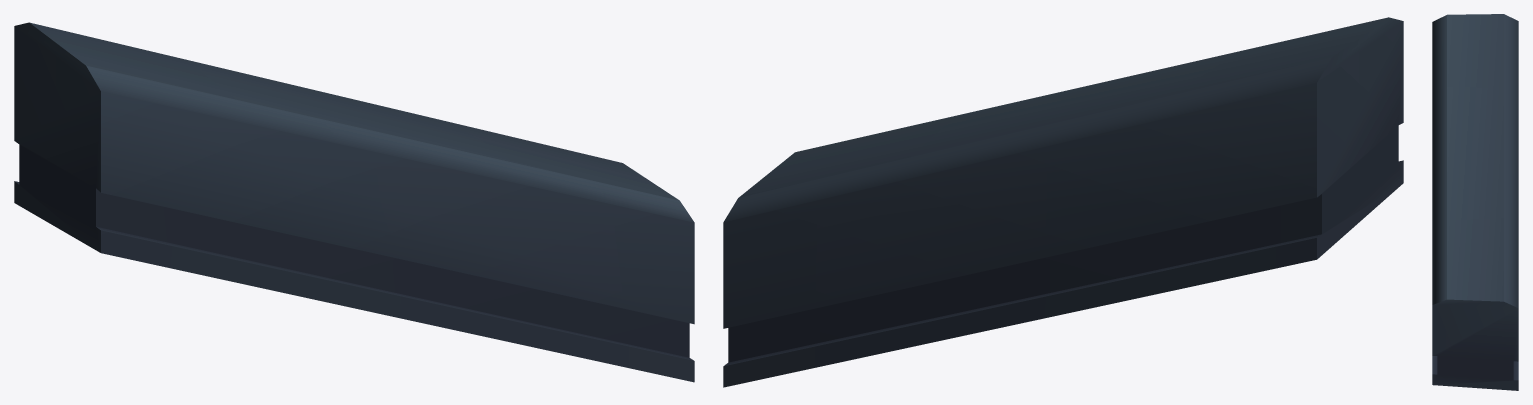
Rendered from Modular_Dungeon_Railing_Plain_Middle.fbx.
3 renders of one model, left to right at view 1: azimuth 30°, elevation 25°; view 2: azimuth 150°, elevation 25°; view 3: azimuth 270°, elevation 25°, orthographic. The views are drawn at different scales.
Visible parts, largest first — view 1: Railing_Plain_Middle; view 2: Railing_Plain_Middle; view 3: Railing_Plain_Middle.
Boxes of the visible parts, left/top/right/bottom form: Railing_Plain_Middle: left=14, top=22, right=694, bottom=382; Railing_Plain_Middle: left=723, top=17, right=1403, bottom=387; Railing_Plain_Middle: left=1432, top=14, right=1518, bottom=390.
Bounding box in the file's own units: 4.11 × 3.07 × 1.04.
Materials: 1 (1 with a texture image).
